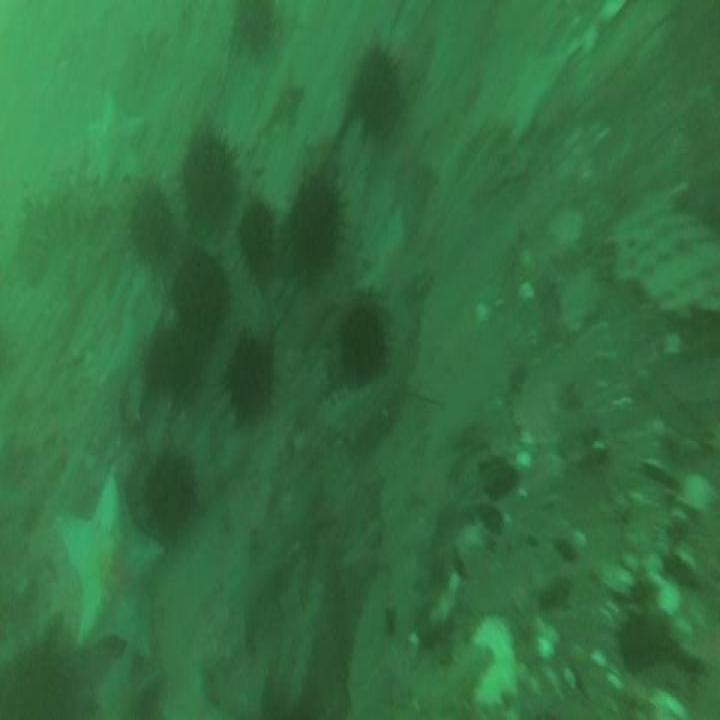echinus: (183, 132, 240, 229), (144, 327, 204, 404), (290, 181, 339, 274), (178, 247, 229, 329), (223, 336, 272, 418), (145, 457, 194, 530), (357, 52, 400, 135), (337, 308, 387, 375), (131, 190, 175, 265), (243, 197, 275, 267), (237, 0, 274, 50)
starfish: (58, 468, 161, 660), (87, 98, 143, 186)
